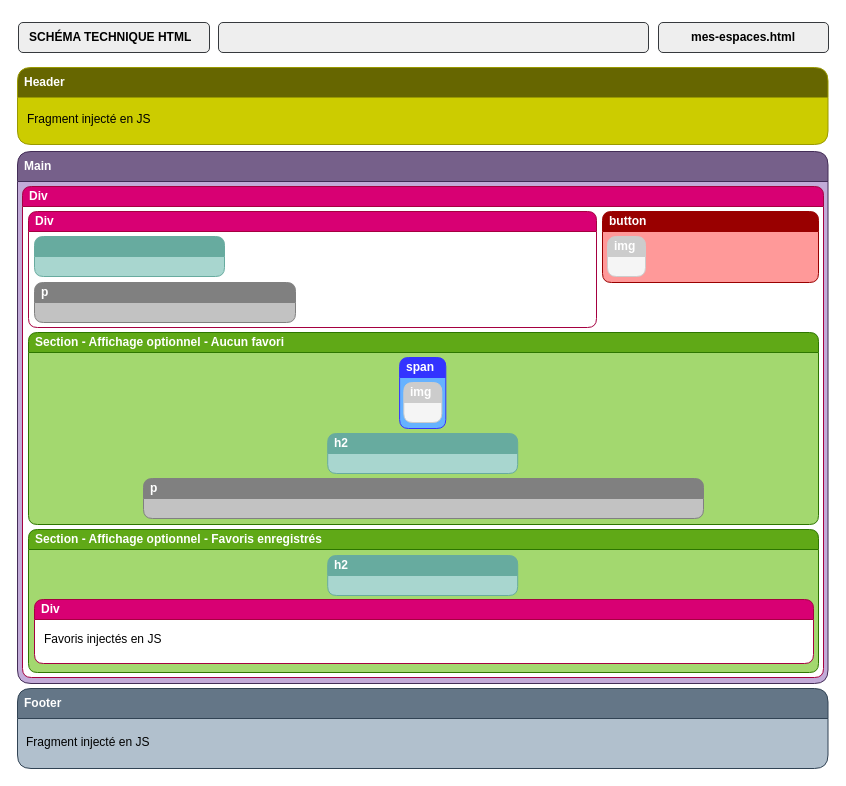
The diagram is 846 pixels wide and 786 high, and some of its shapes have lost their labels. The shapes that lost their labels are listed below. From the top down, each one's centre as x and y in pixels, then its label:
(x=433, y=37): PROSPACE
(x=129, y=256): h1
